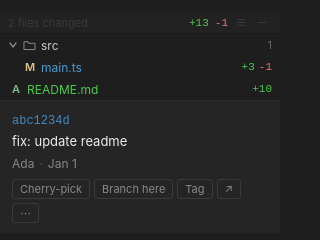
DetailPane — action row › clicking the hash copies the full hash
Click the button "abc1234d" at point(48, 121), box x1=12 y1=114 x2=85 y2=128
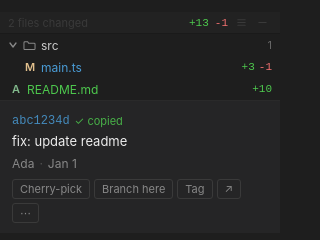
Result: the text "✓ copied" is shown at x1=75 y1=114 x2=123 y2=128
